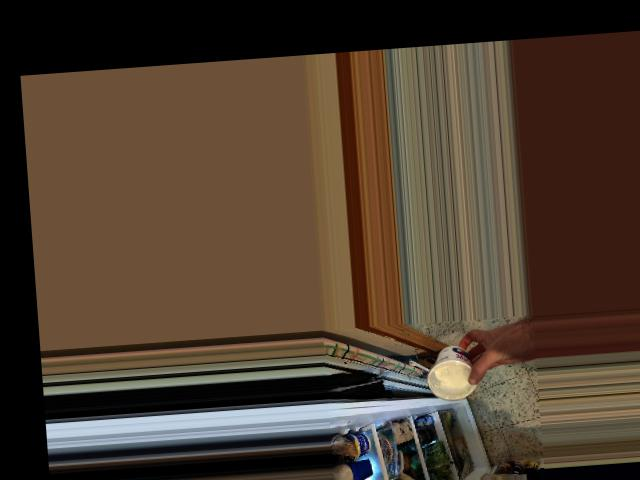cotage: (425, 344, 475, 399)
